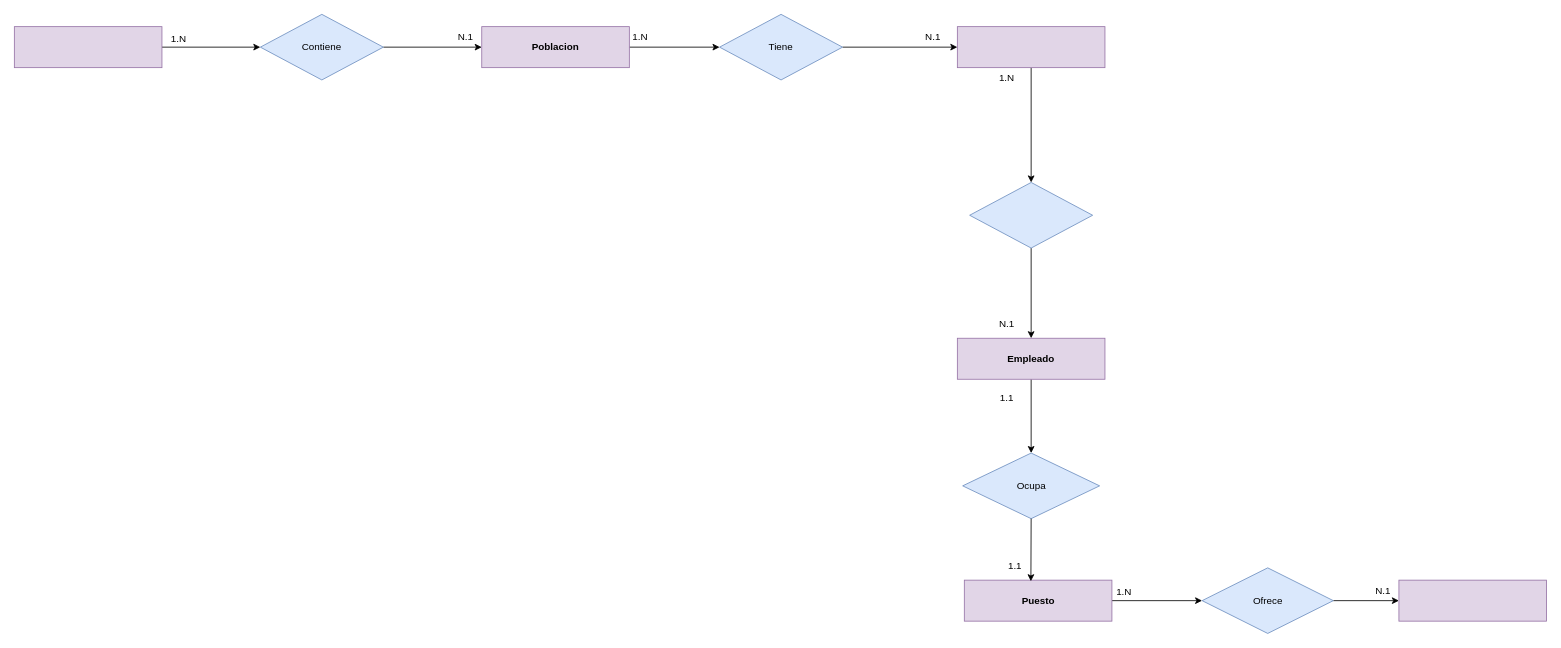
The diagram is 1561 pixels wide and 648 high, and some of its shapes have lost their labels. Each missing label, with the centre of its shape:
"Pais" goes at (x=88, y=47).
"Salario" goes at (x=1472, y=600).
"Trabaja" goes at (x=1031, y=215).
"Ubicacion" goes at (x=1031, y=47).
